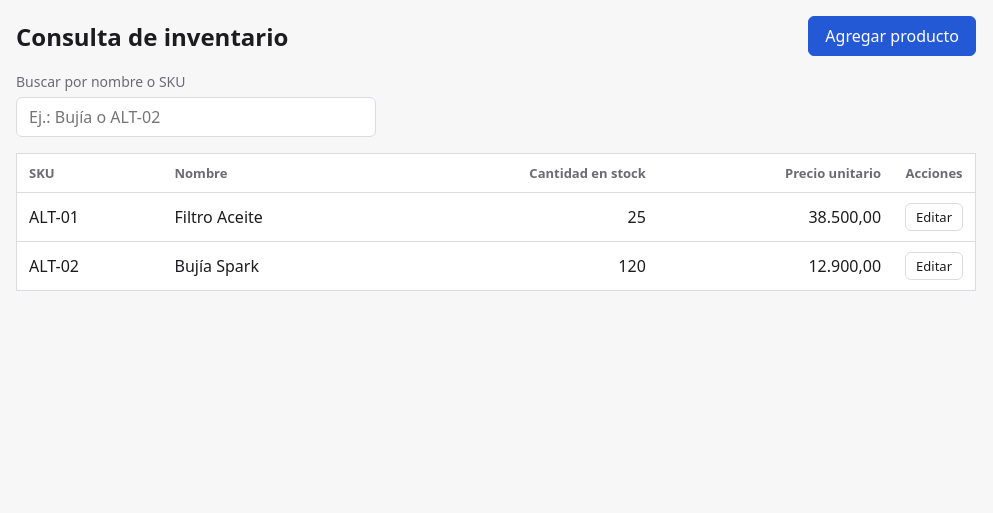
Test: App › edición de producto › la confirmación se oculta al abrir otra vez un formulario
Click the button with aria-label "Editar Bujía Spark".
click(934, 266)  # box left=905, top=252, right=963, bottom=280
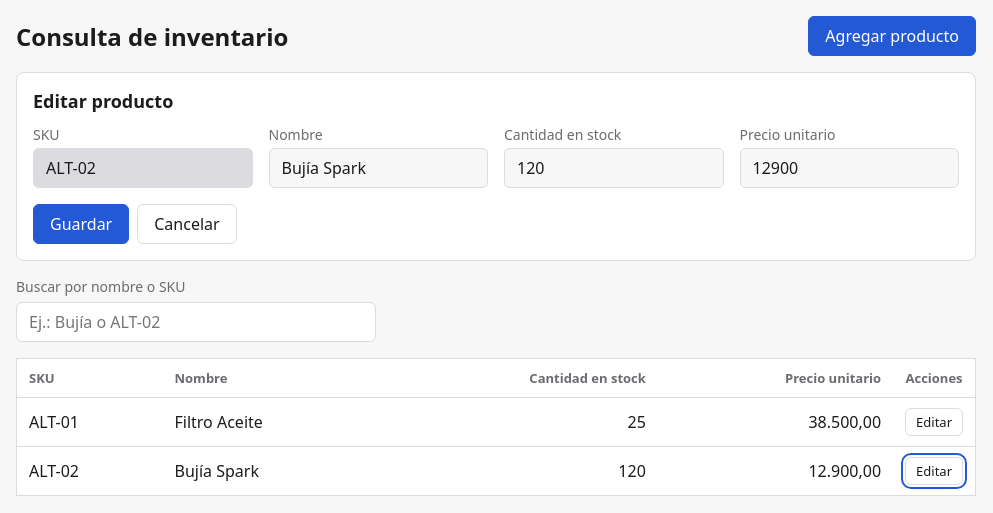
Replace the text in the field labelled "Cantidad en stock" with "0" at (614, 168), box left=504, top=148, right=724, bottom=188
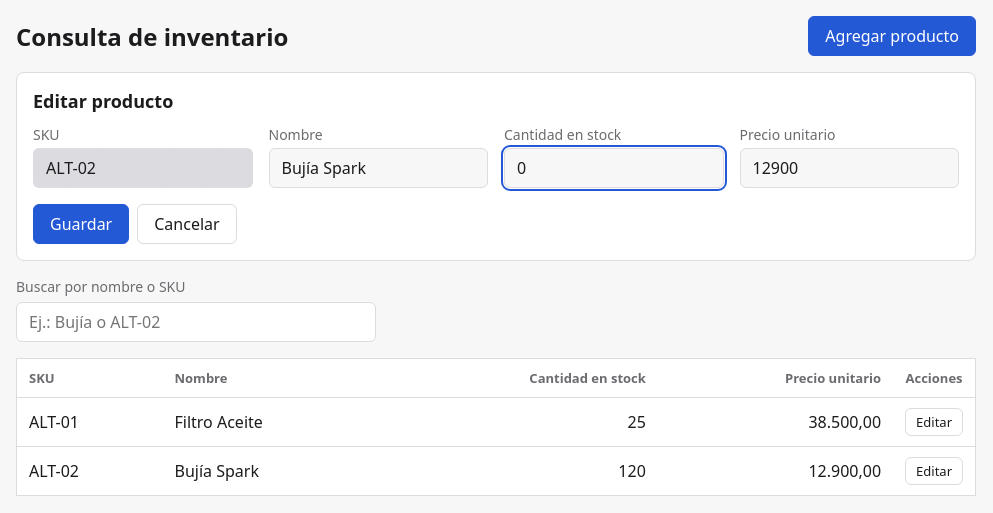
Replace the text in the field labelled "Precio unitario" with "0" at (849, 168), box left=740, top=148, right=959, bottom=188
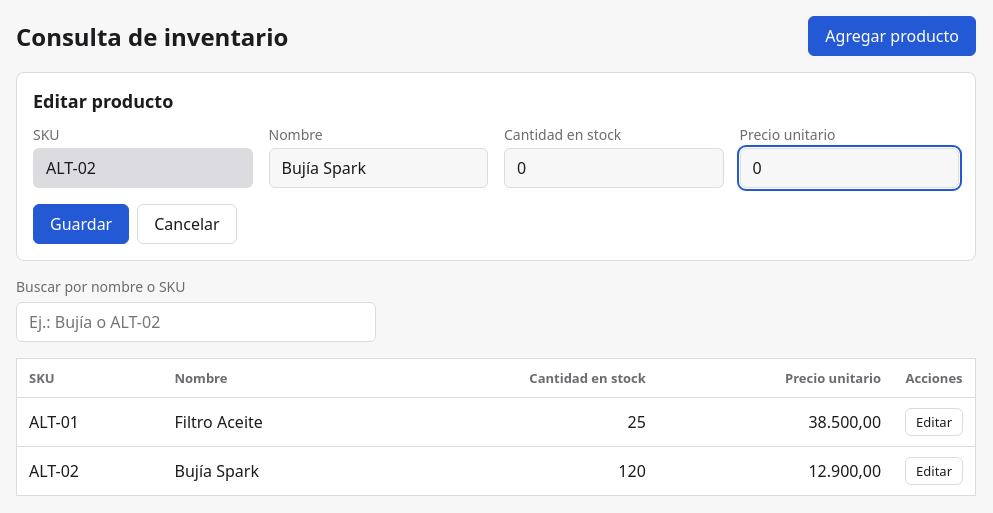
Click the button "Guardar".
click(81, 224)  # box left=33, top=204, right=129, bottom=244
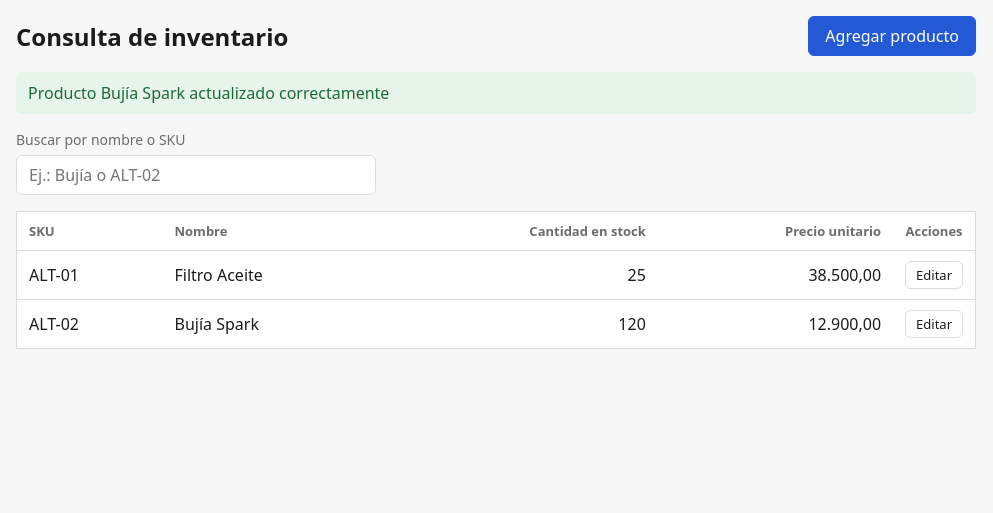
expect the text "Producto Bujía Spark actualizado correctamente" is shown: met, box left=16, top=72, right=976, bottom=114
Click the button with aria-label "Editar Filtro Aceite".
click(934, 275)  # box left=905, top=261, right=963, bottom=289
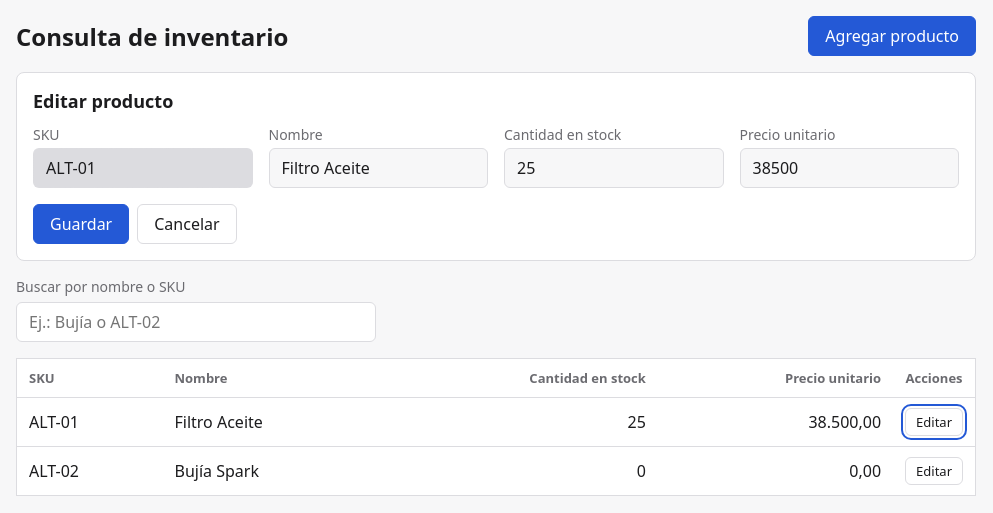
expect the text "Producto Bujía Spark actualizado correctamente" is gone: met
